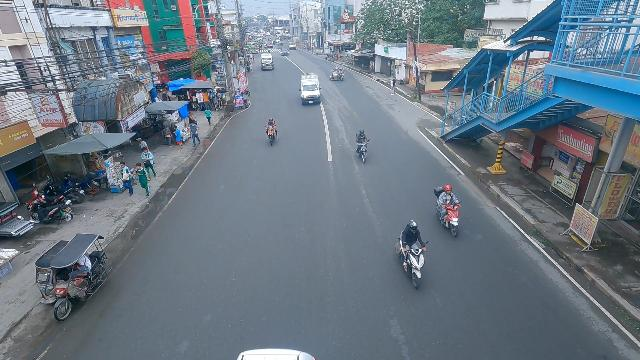car: (280, 48, 289, 56), (288, 43, 296, 50), (266, 41, 273, 48)
jeepney: (260, 52, 274, 71), (246, 45, 258, 53)
motorcycle: (394, 227, 428, 289), (432, 184, 462, 240), (354, 129, 371, 163), (264, 117, 279, 148), (246, 62, 251, 73)
van: (298, 73, 323, 108)
